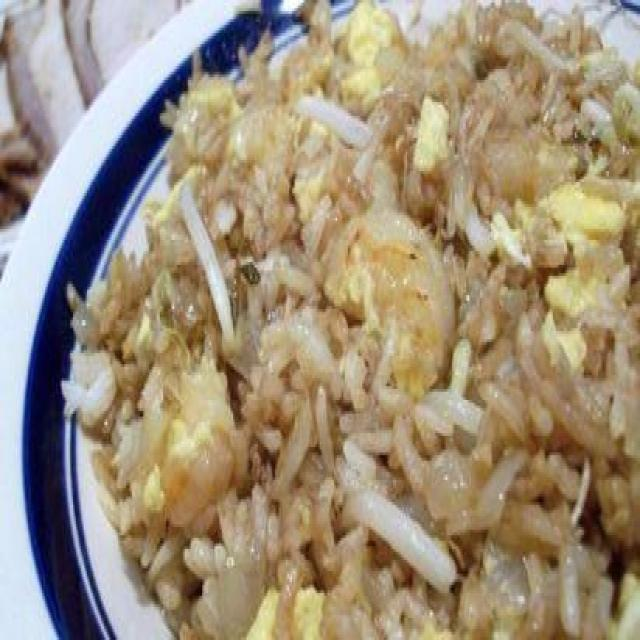Nasi Goreng: (60, 0, 636, 634)
